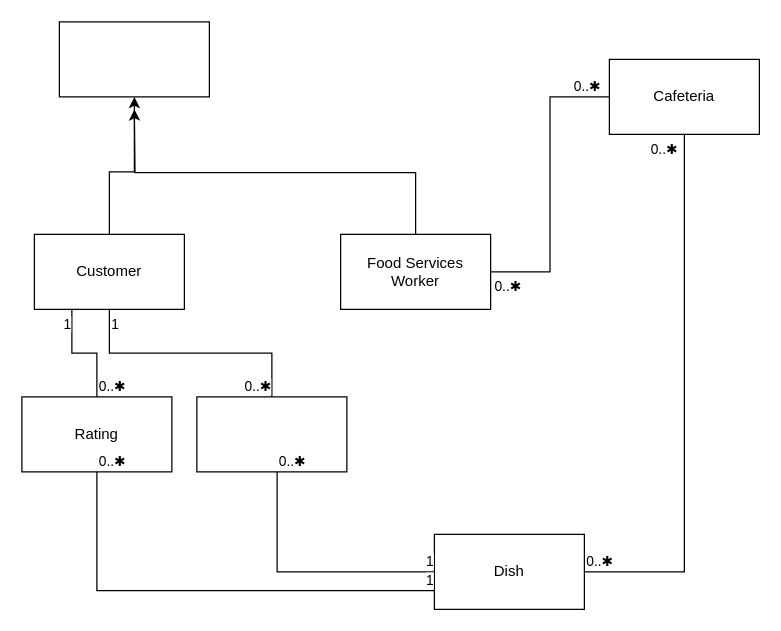
The diagram is 781 pixels wide and 631 high, and some of its shapes have lost their labels. Here are the shapes that lost their labels. From the top down, the box of each, then its label:
(58, 21, 209, 97): User
(196, 396, 347, 472): Comment
